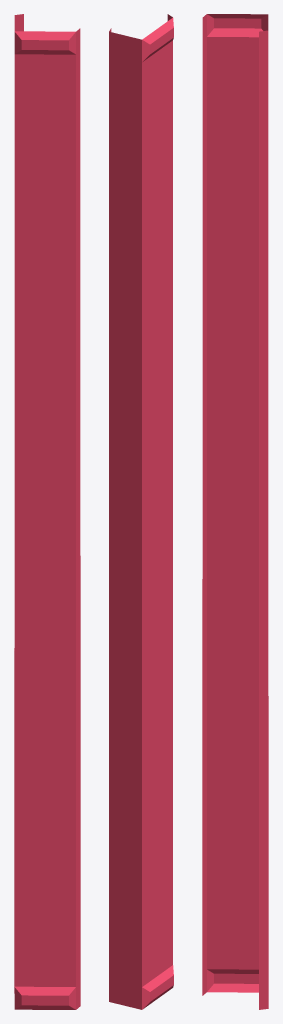
File: MePlainteDalleRebord.FBX
The picture shows the model from 3 angles, left to right: view 1: azimuth 90°, elevation 25°; view 2: azimuth 150°, elevation 25°; view 3: azimuth 270°, elevation 25°; orthographic projection.
Parts seen in each view (by area): view 1: PlainteSol_LP; view 2: PlainteSol_LP; view 3: PlainteSol_LP.
Boxes of the visible parts, bbox=[...] form: PlainteSol_LP: bbox=[14, 14, 80, 1009]; PlainteSol_LP: bbox=[109, 14, 173, 1009]; PlainteSol_LP: bbox=[202, 14, 268, 1009].
Size of the model in its own units: 6.5 by 150 by 9.17.
